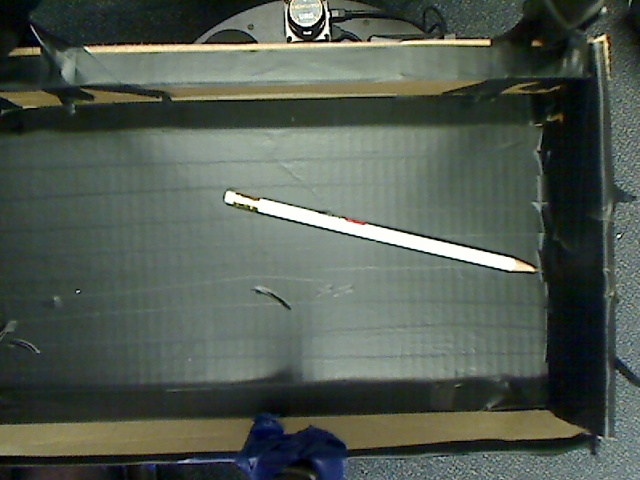pencil: (205, 166, 546, 290)
